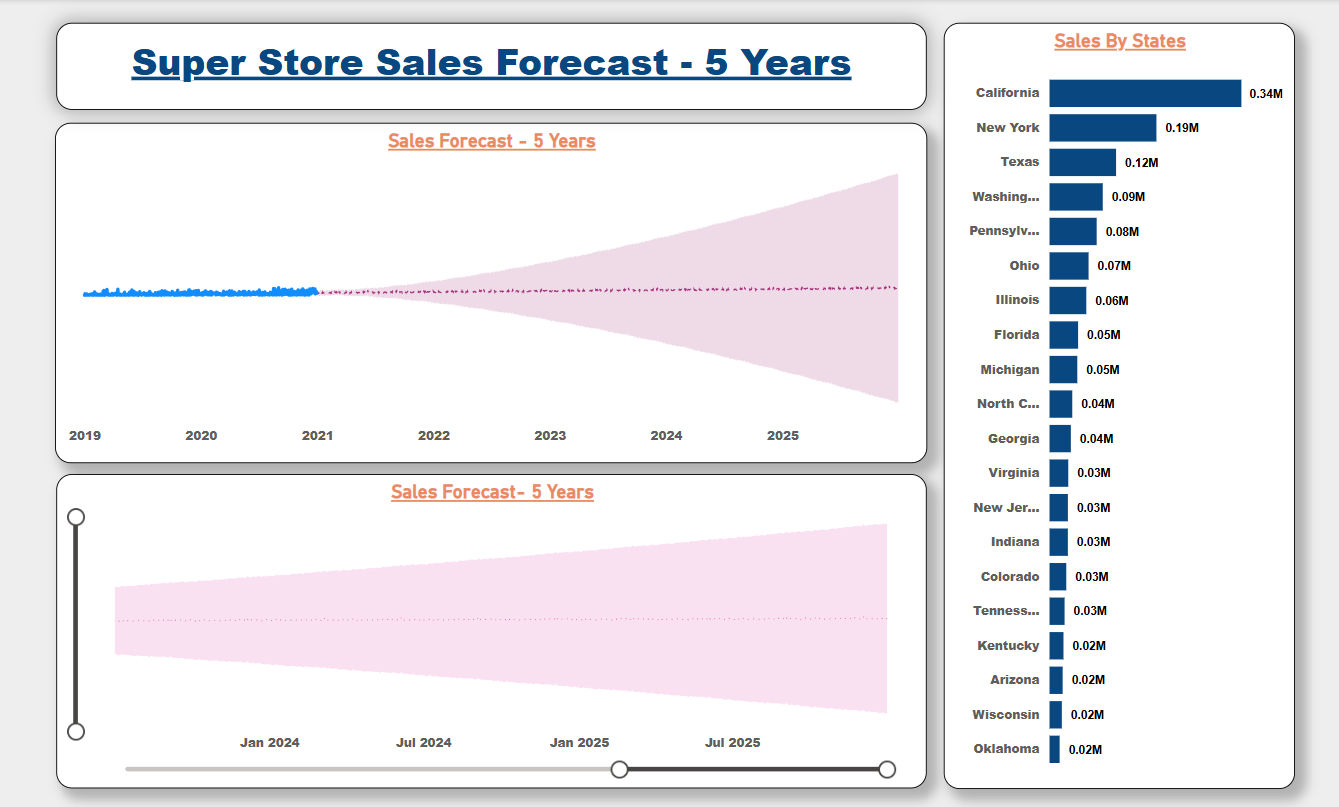

This screenshot's page, from the dashboard's own definition file:
{"tool":"powerbi","page":{"name":"Page 2","canvas":[1280,720],"ordinal":1},"visuals":[{"type":"lineChart","title":"Sales Forecast - 5 Years","fields":{"Y":["Sum(Sheet1.Sales)"],"Category":["Sheet1.Order Date"]},"box":[75.6,110.5,776.7,303.5],"z":0},{"type":"lineChart","title":"Sales Forecast- 5 Years","fields":{"Y":["Sum(Sheet1.Sales)"],"Category":["Sheet1.Order Date"]},"box":[76.7,423.3,775.6,280.2],"z":1000},{"type":"clusteredBarChart","title":"Sales By States","fields":{"Y":["Sum(Sheet1.Sales)"],"Category":["Sheet1.State"]},"box":[867.4,20.9,312.8,682.6],"z":2000},{"type":"textbox","box":[76.7,20.9,775.6,77.9],"z":3000}]}

Visuals, with their boxes on the page's 1280x720 design canvas (x1, y1, x2, y2). These are canvas units, not pixel positions in the 1339x807 screenshot, which may show the page scaled, cropped or inside an application window:
"Sales Forecast - 5 Years" lineChart: {"x1": 76, "y1": 110, "x2": 852, "y2": 414}
"Sales Forecast- 5 Years" lineChart: {"x1": 77, "y1": 423, "x2": 852, "y2": 704}
"Sales By States" clusteredBarChart: {"x1": 867, "y1": 21, "x2": 1180, "y2": 704}
textbox: {"x1": 77, "y1": 21, "x2": 852, "y2": 99}
